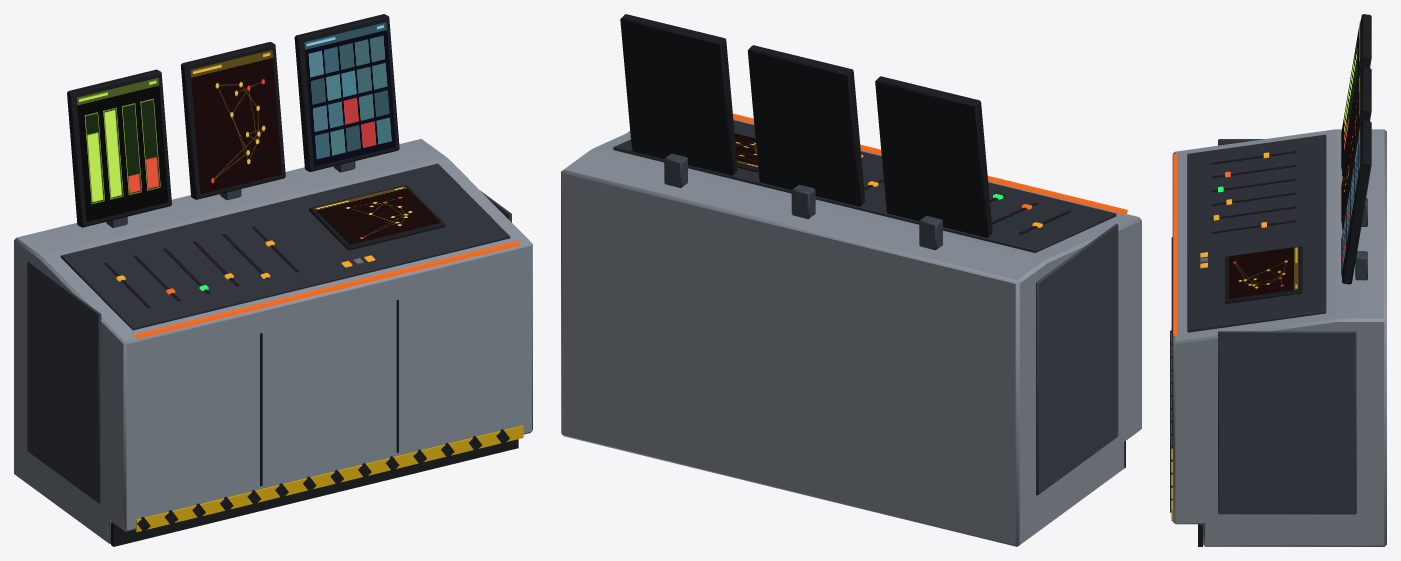
Rendered from console_engineering_status.glb.
3 renders of one model, left to right at view 1: azimuth 30°, elevation 25°; view 2: azimuth 150°, elevation 25°; view 3: azimuth 270°, elevation 25°, orthographic. The views are drawn at different scales.
Parts seen in each view (by area): view 1: console_engineering_status; view 2: console_engineering_status; view 3: console_engineering_status.
Part boxes in pixels (x1=…): console_engineering_status: x1=14, y1=14, x2=532, y2=546; console_engineering_status: x1=561, y1=14, x2=1141, y2=546; console_engineering_status: x1=1170, y1=14, x2=1386, y2=546.
Size of the model in its own units: 1.82 by 1.6 by 0.8602.
Materials: 12 (3 with a texture image).
